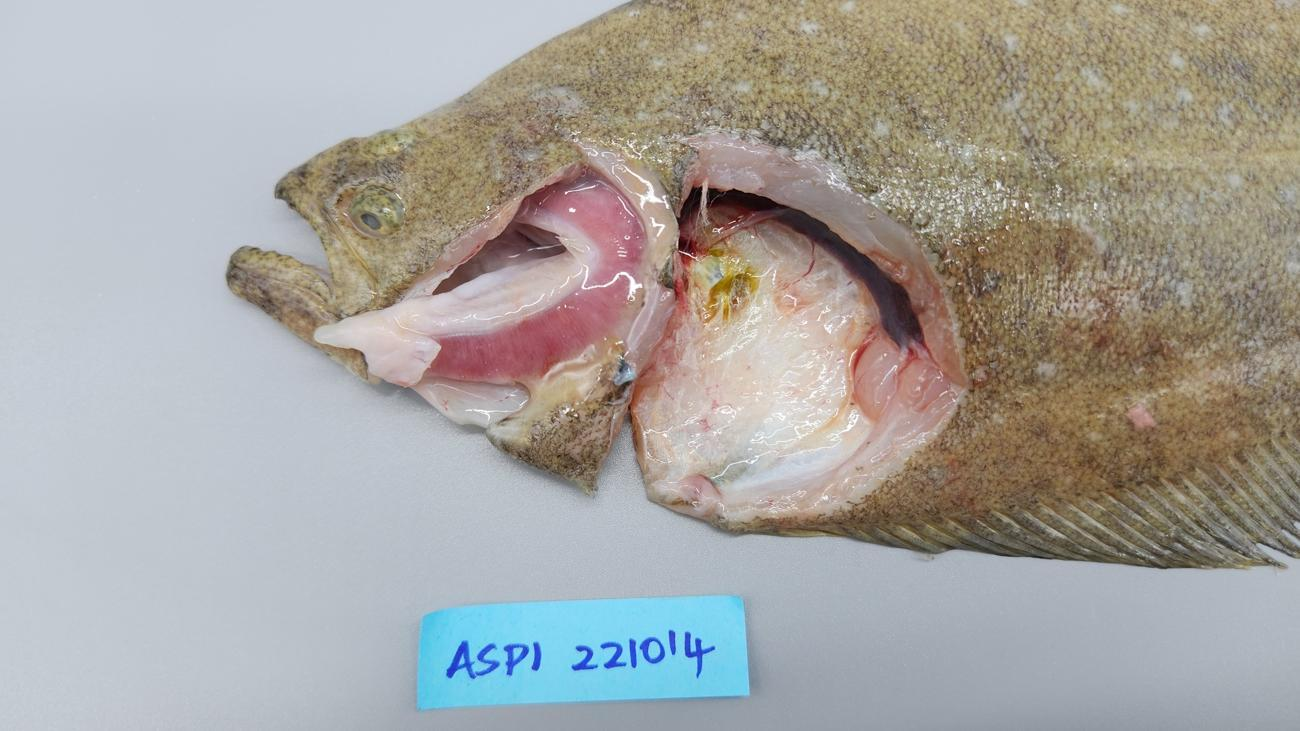SPASQ: (632, 206, 879, 480)
SPKIE: (680, 186, 924, 348)
